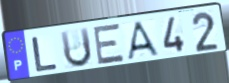2: (191, 9, 221, 53)
4: (162, 15, 187, 55)
A: (126, 20, 162, 62)
E: (93, 22, 127, 67)
L: (31, 35, 60, 73)
U: (58, 26, 94, 70)
